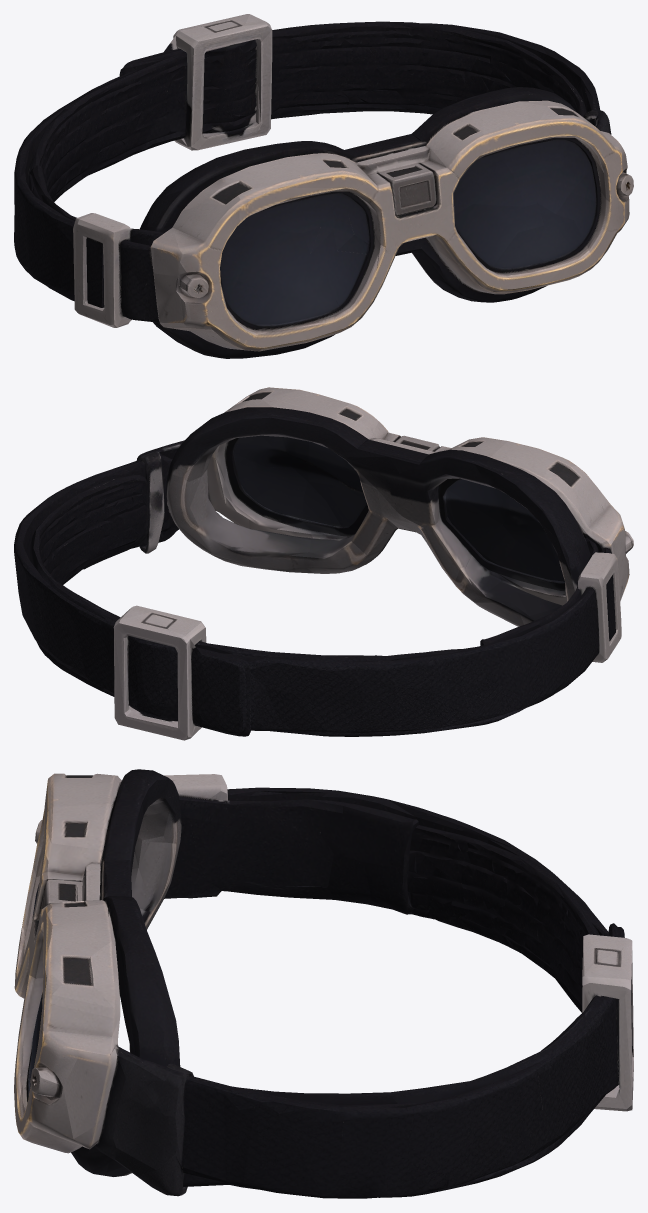
File: simple_goggles_common.glb
The picture shows the model from 3 angles, top to bottom: view 1: azimuth 30°, elevation 25°; view 2: azimuth 150°, elevation 25°; view 3: azimuth 270°, elevation 25°; orthographic projection. The views are drawn at different scales.
Parts seen in each view (by area): view 1: output_unwrapped; view 2: output_unwrapped; view 3: output_unwrapped.
Boxes of the visible parts, x1,y1,x2,y2 form: output_unwrapped: (14, 14, 633, 358); output_unwrapped: (14, 387, 633, 740); output_unwrapped: (14, 769, 633, 1198).
Size of the model in its own units: 1.9 by 0.6136 by 1.55.
1 material, 1 textured.
